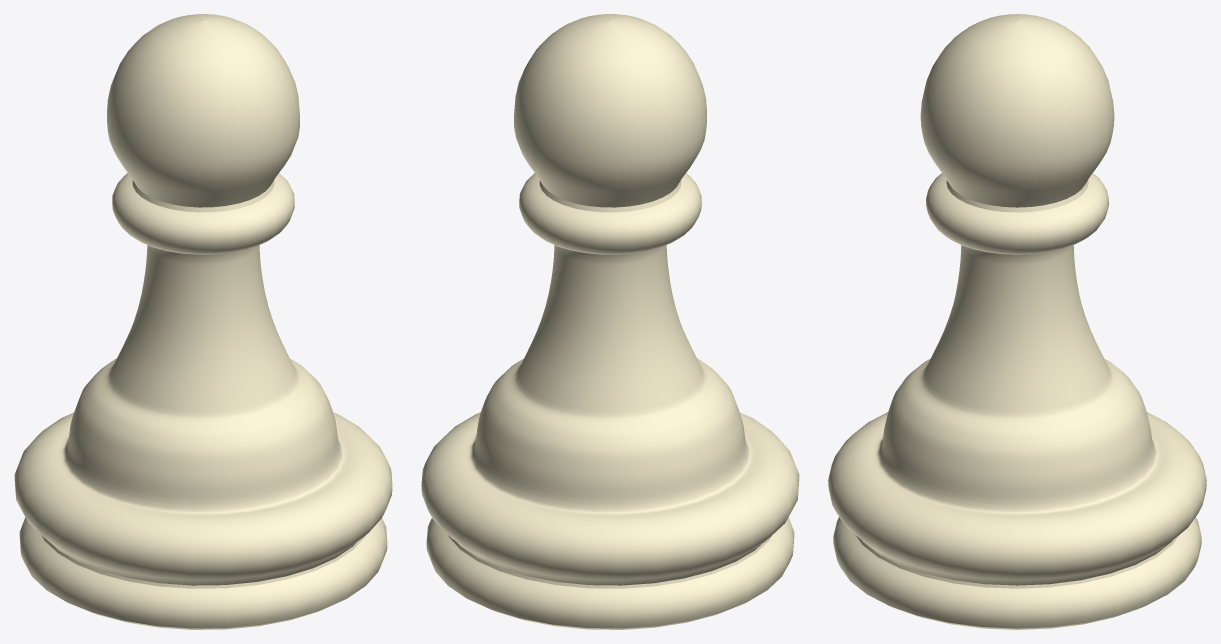
Rendered from Pawn.fbx.
3 views of the same model, side by side, from view 1: azimuth 30°, elevation 25°; view 2: azimuth 150°, elevation 25°; view 3: azimuth 270°, elevation 25° (orthographic).
Parts seen in each view (by area): view 1: Pawn; view 2: Pawn; view 3: Pawn.
Part boxes in pixels (x1,y1,x2,y2): Pawn: [14, 14, 392, 629]; Pawn: [421, 14, 799, 629]; Pawn: [828, 14, 1206, 629].
Bounding box in the file's own units: 139 × 218 × 139.
